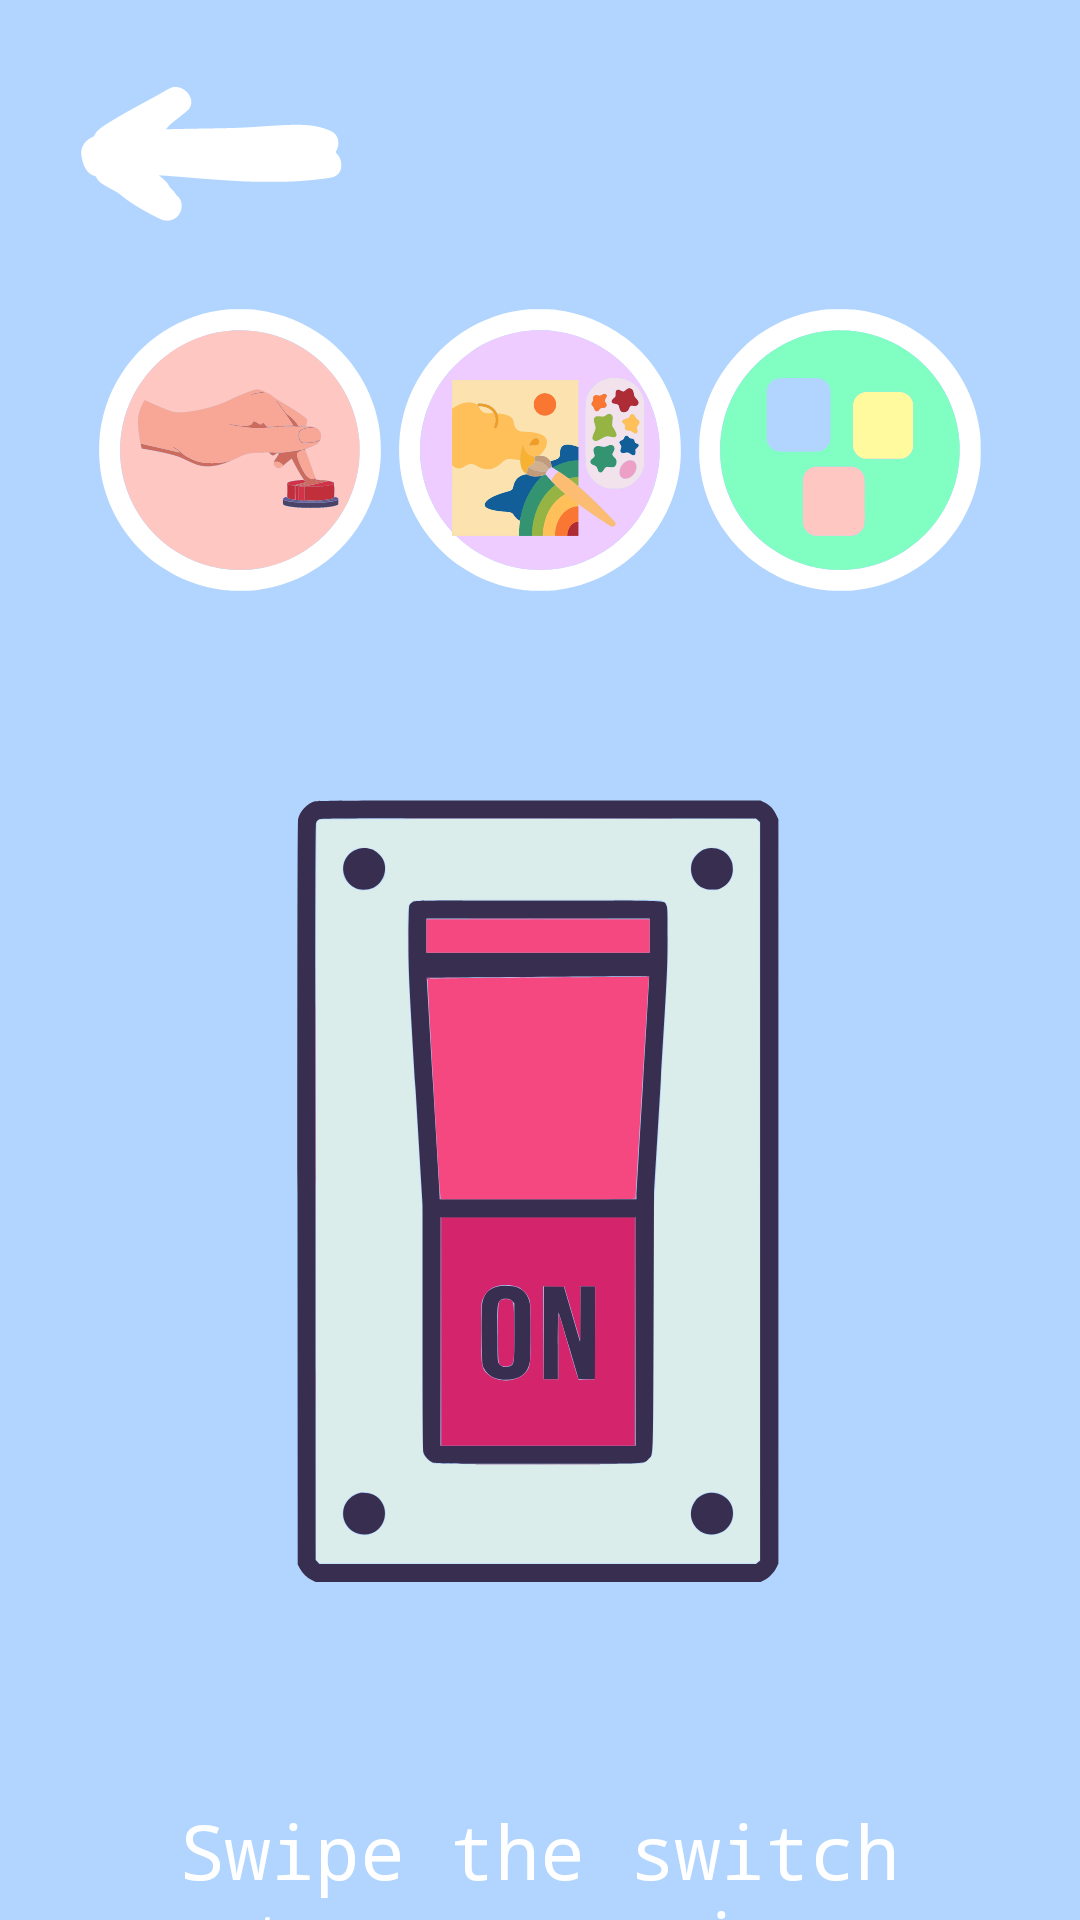

Icon bounding boxes for this 1080px x 1920px phone screenshot, format Rect(x1, y1, x2, y2):
backarrow: Rect(81, 87, 341, 221)
block: Rect(699, 309, 981, 591)
draw: Rect(399, 309, 681, 591)
